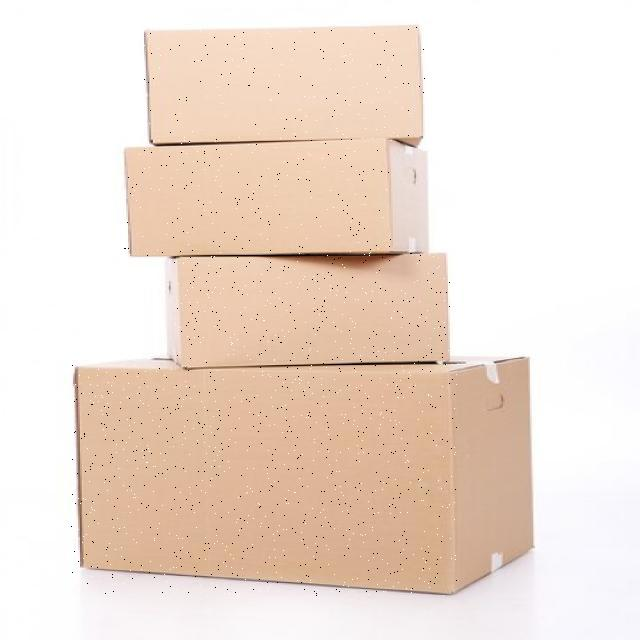BoxFace: (71, 365, 457, 596), (140, 26, 427, 146), (174, 250, 450, 371), (123, 137, 392, 256)
